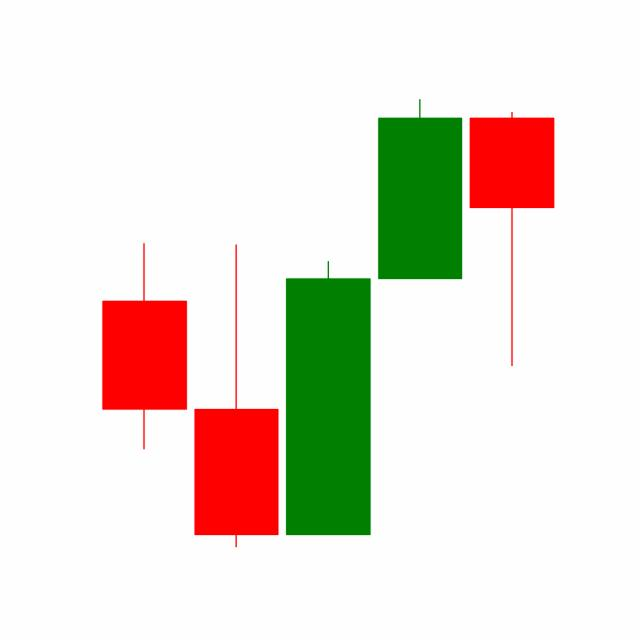Marubozu: (373, 96, 467, 280)
